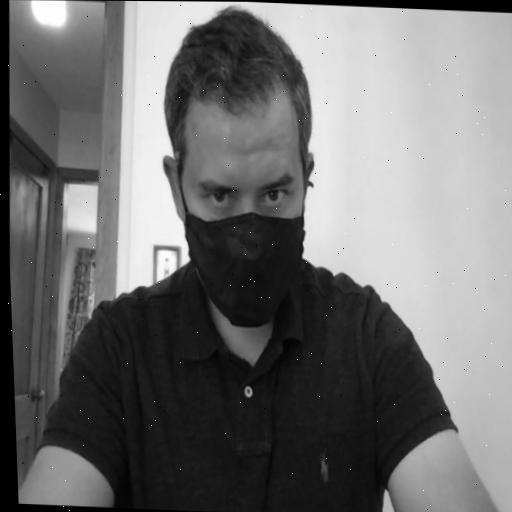mask: (153, 6, 325, 328)
